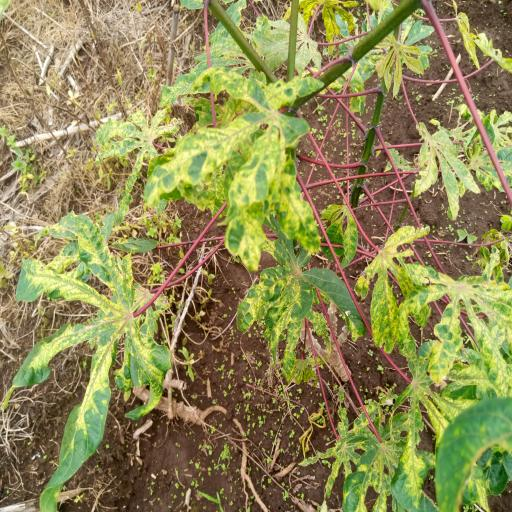Cassava_Mosaic: (8, 208, 165, 506), (152, 60, 310, 248), (240, 246, 355, 373), (413, 260, 512, 400)
